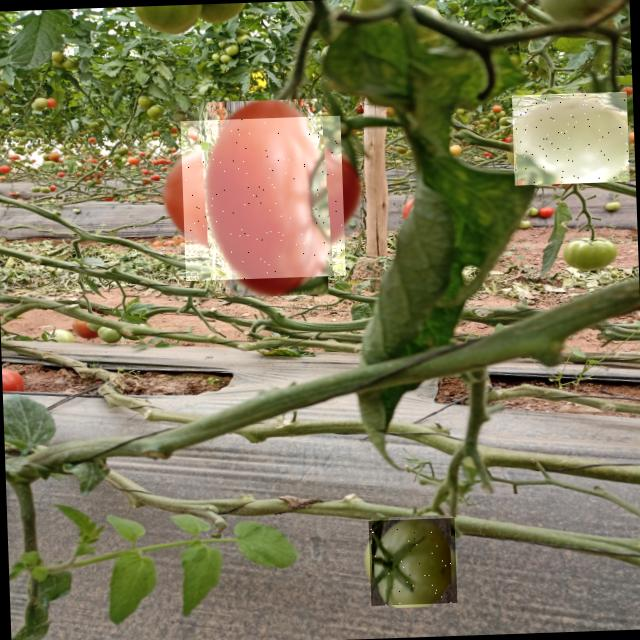Ripe Tomato: (180, 116, 345, 280)
Unripe Tomato: (512, 91, 630, 186), (368, 518, 457, 606)
